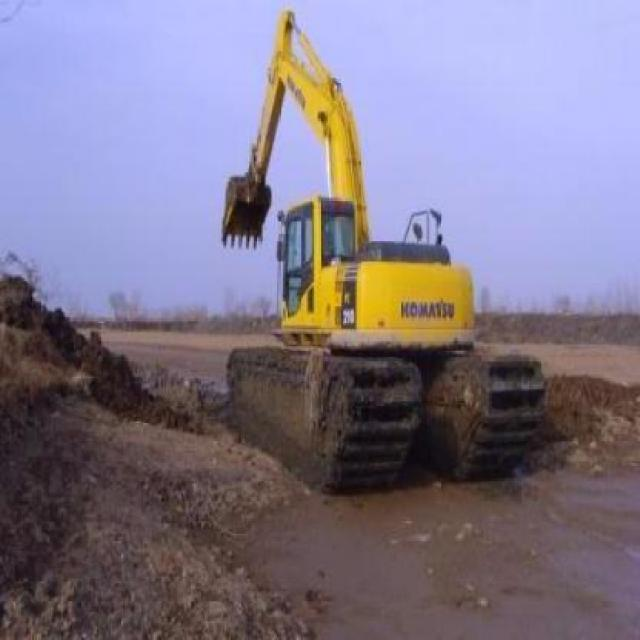Excavator: (214, 0, 543, 489)
